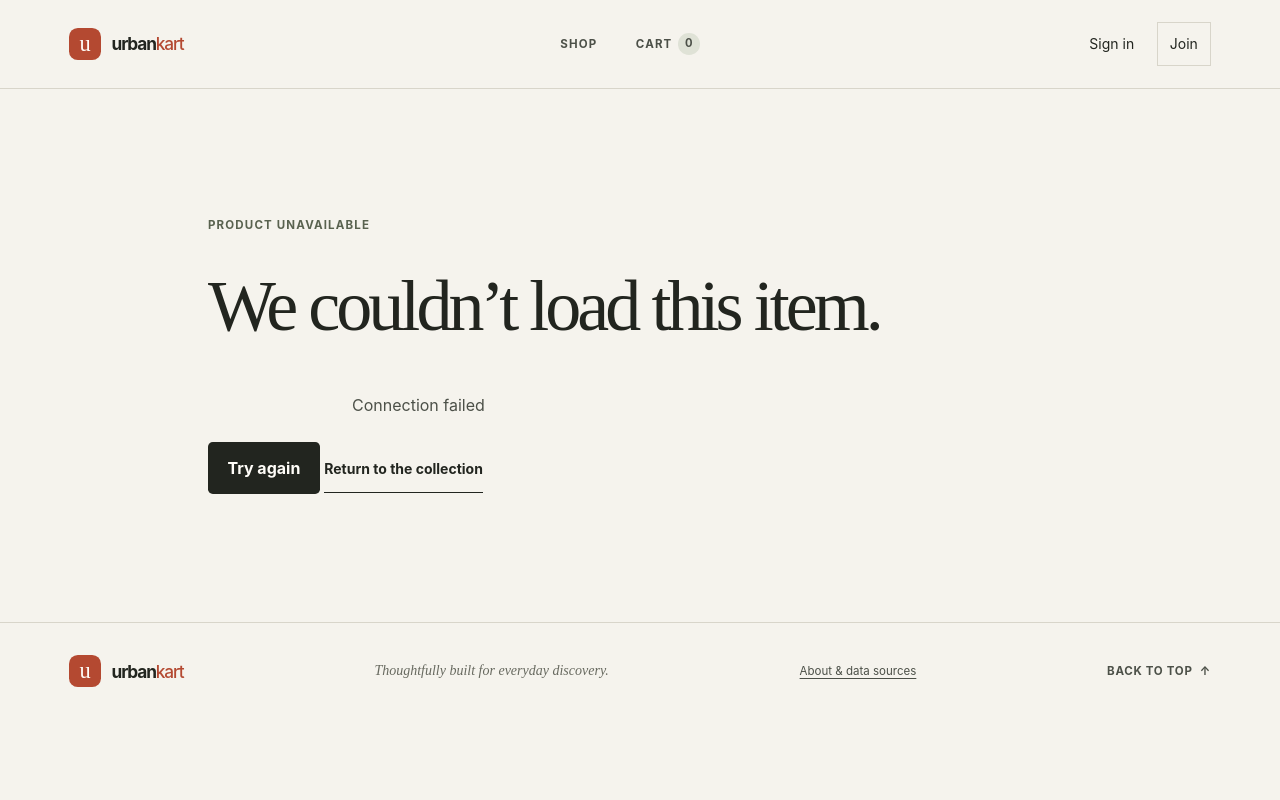
Test: Stage C catalogue and detail › distinguishes product not-found from a recoverable detail error
The width and height of the screenshot is (1280, 800).
(page scrolled)
Expected: the heading "We couldn’t load this item." is shown, [208,266,880,346]
Click the button "Try again".
click(264, 468)  # box [208,442,320,494]
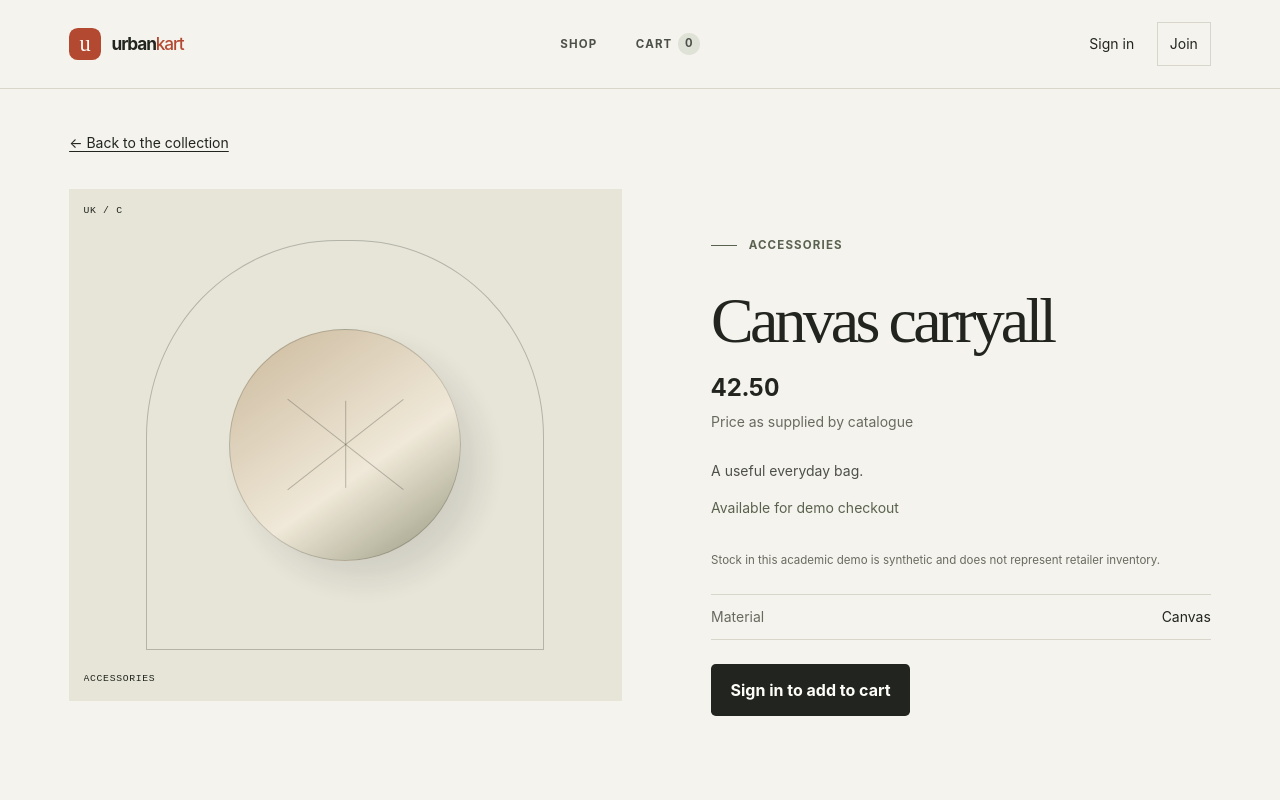
Expected: the heading "Canvas carryall" is shown, [711,285,1053,356]
